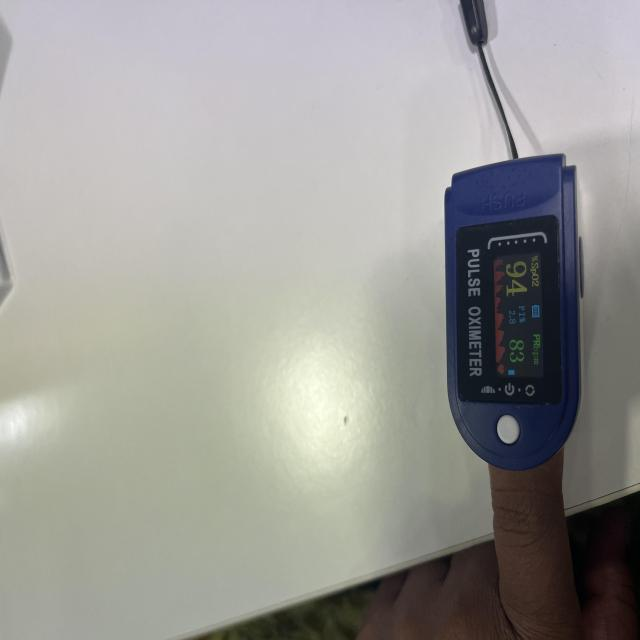spo2: (444, 154, 584, 474)
